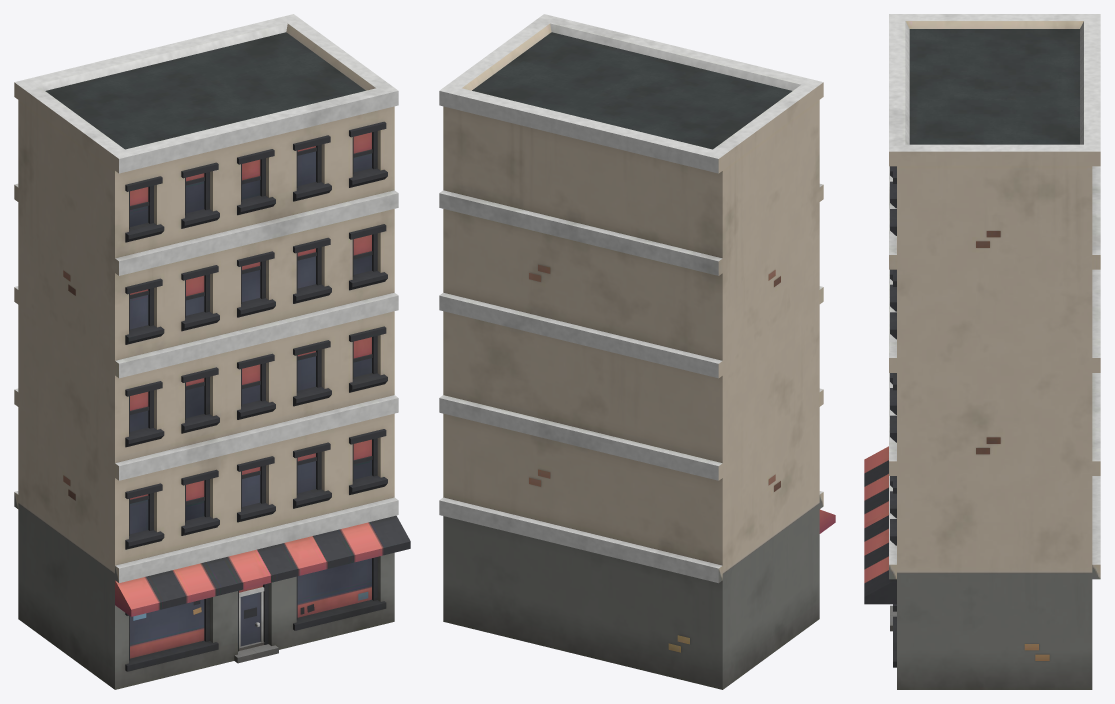
File: building_E_6f.glb
3 renders of one model, left to right at view 1: azimuth 30°, elevation 25°; view 2: azimuth 150°, elevation 25°; view 3: azimuth 270°, elevation 25°, orthographic.
Visible parts, largest first — view 1: ground; view 2: ground; view 3: ground.
Boxes of the visible parts, <box> form: ground: <box>14,14,410,689</box>; ground: <box>439,14,835,689</box>; ground: <box>864,14,1100,689</box>.
Size of the model in its own units: 2.01 by 3.65 by 1.45.
2 materials, 2 textured.
